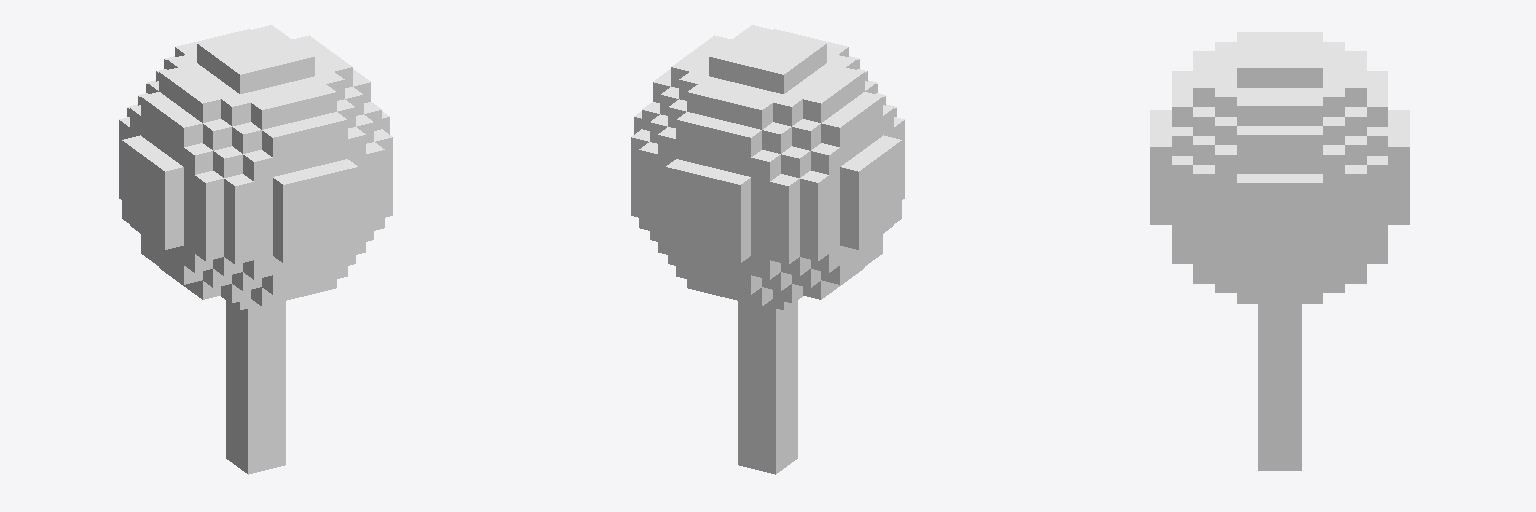
Rendered from Tree01.obj.
The picture shows the model from 3 angles: view 1: azimuth 30°, elevation 25°; view 2: azimuth 150°, elevation 25°; view 3: azimuth 270°, elevation 25°; orthographic projection.
Parts seen in each view (by area): view 1: object 1; view 2: object 1; view 3: object 1.
Boxes of the visible parts, x1=… form: object 1: x1=119, y1=25, x2=392, y2=474; object 1: x1=631, y1=25, x2=904, y2=474; object 1: x1=1150, y1=32, x2=1409, y2=470.
Size of the model in its own units: 1.2 by 2.1 by 1.2.